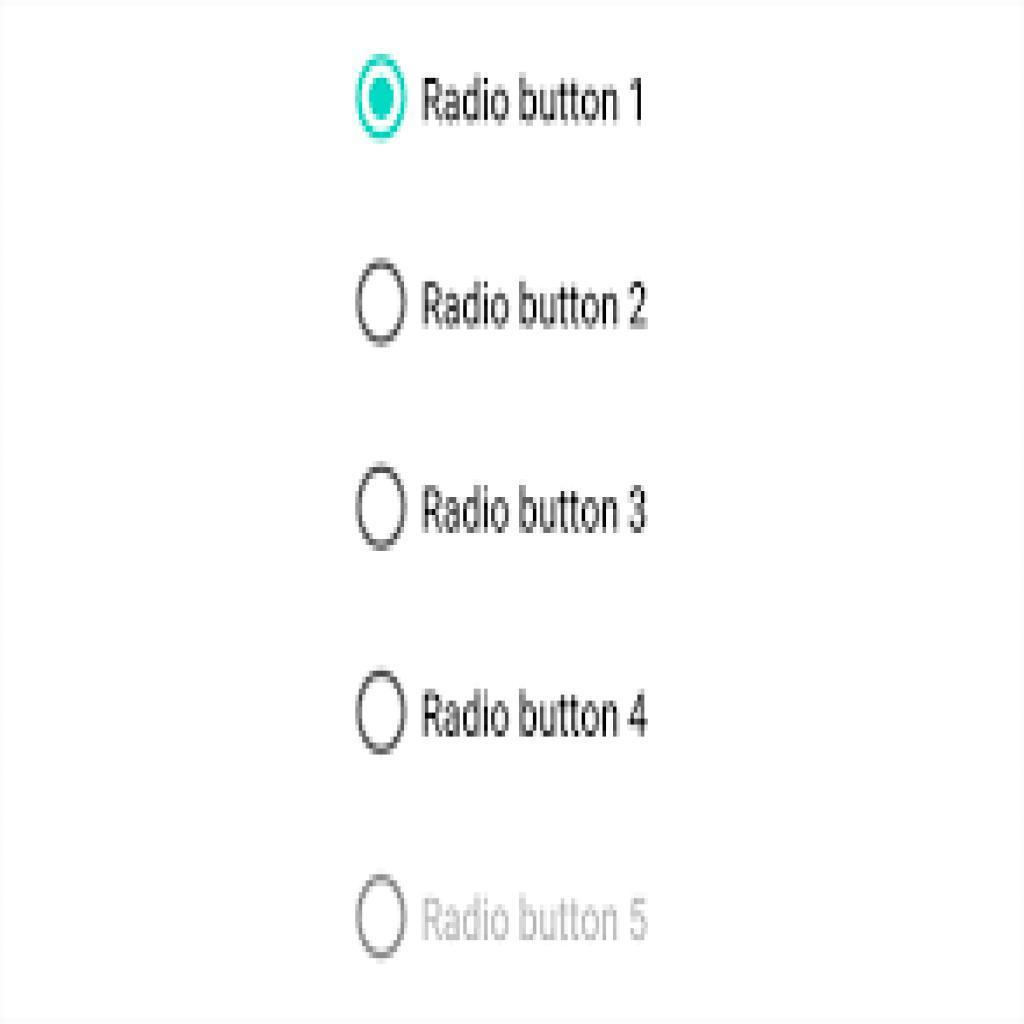label: (417, 476, 656, 545), (424, 884, 654, 950), (424, 279, 658, 335), (421, 687, 654, 743), (421, 74, 652, 125)
radio: (353, 660, 413, 765), (353, 255, 412, 356), (353, 456, 412, 555), (353, 869, 415, 962), (353, 51, 411, 147)
